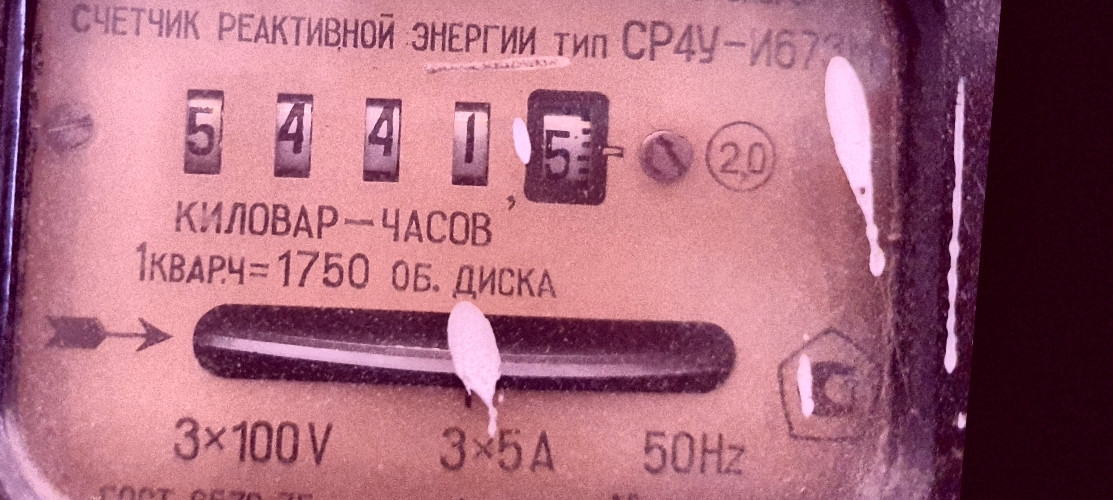1: (454, 108, 483, 168)
4: (359, 97, 402, 165), (271, 95, 312, 159)
5: (178, 101, 222, 161), (537, 122, 577, 187)
screen: (153, 34, 638, 238)
